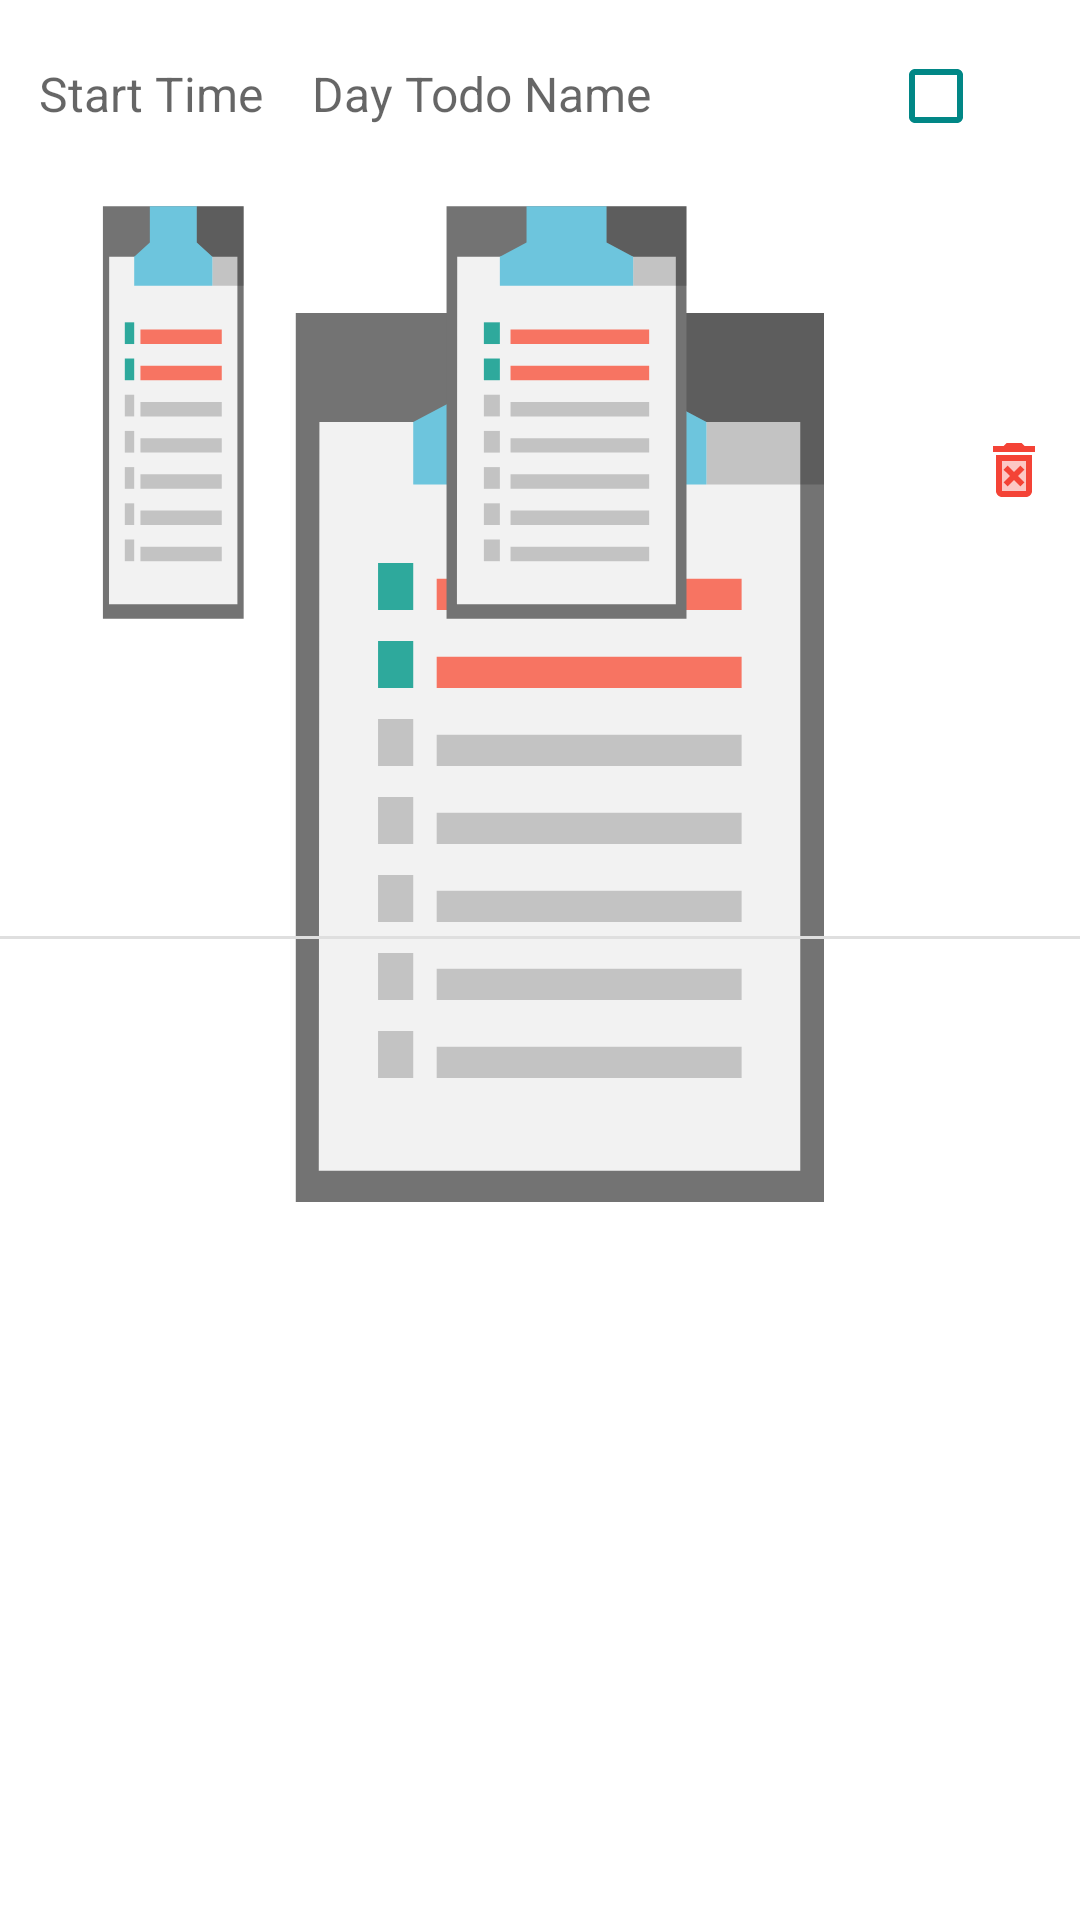

Icons on this 1080px×1920px Android screen, each with the point to tap as [x,y]:
delete: [1014,470]
